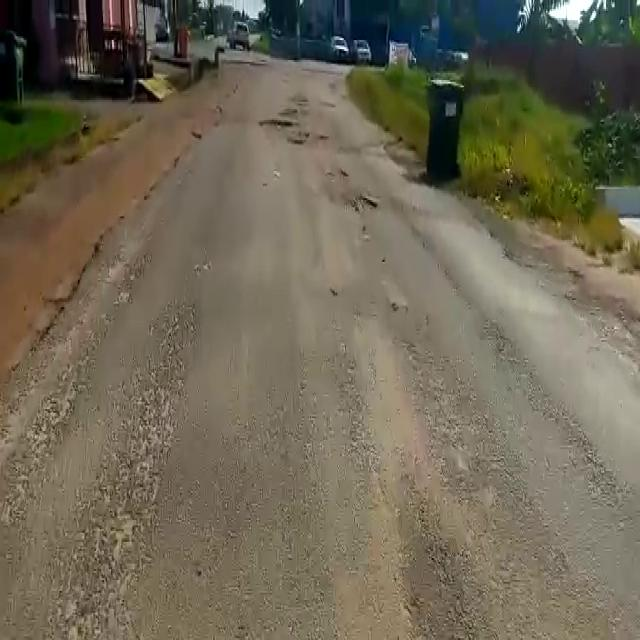Pothole: (338, 192, 382, 214), (262, 113, 299, 127)
